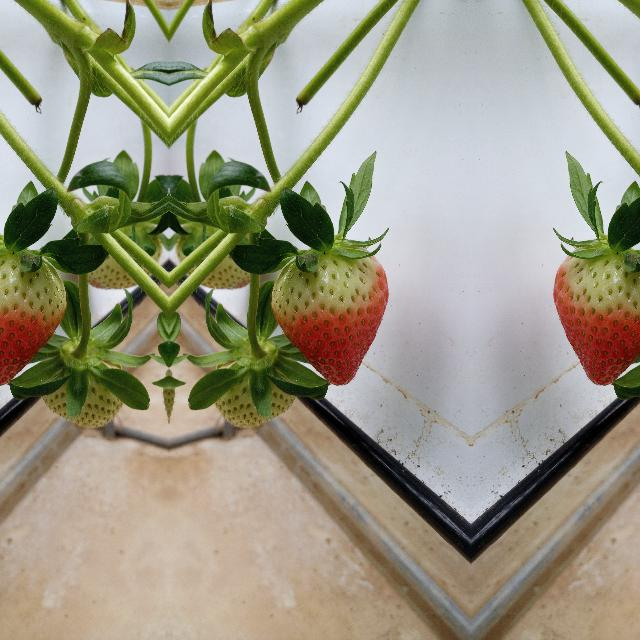Health_25: (210, 334, 306, 434), (30, 334, 126, 434), (77, 200, 156, 310), (180, 200, 258, 310)
Health_75: (270, 246, 388, 386), (552, 245, 640, 386), (0, 245, 66, 386)
